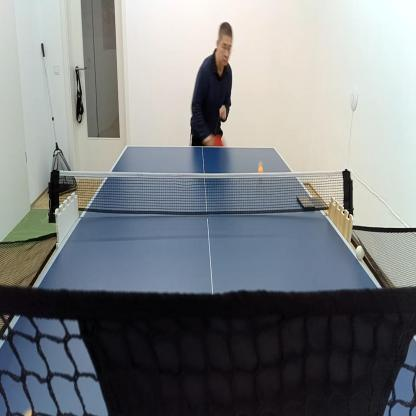Ball: (354, 244, 366, 262), (24, 404, 36, 416), (257, 160, 264, 174)
